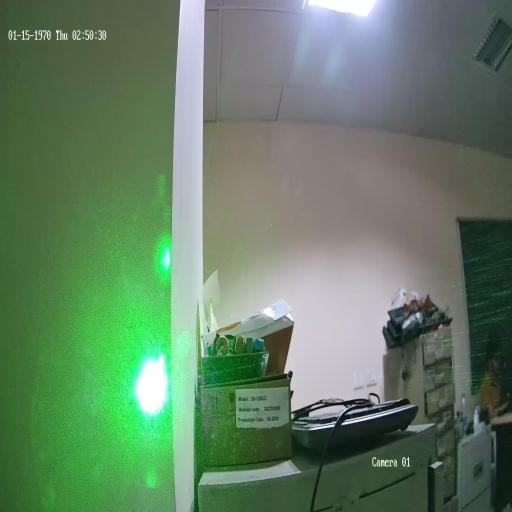laser: (119, 331, 180, 432)
